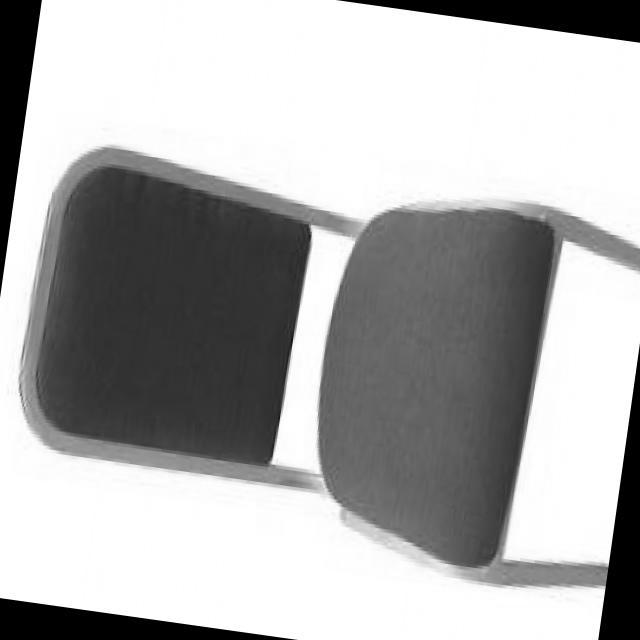chair: (0, 116, 640, 607)
